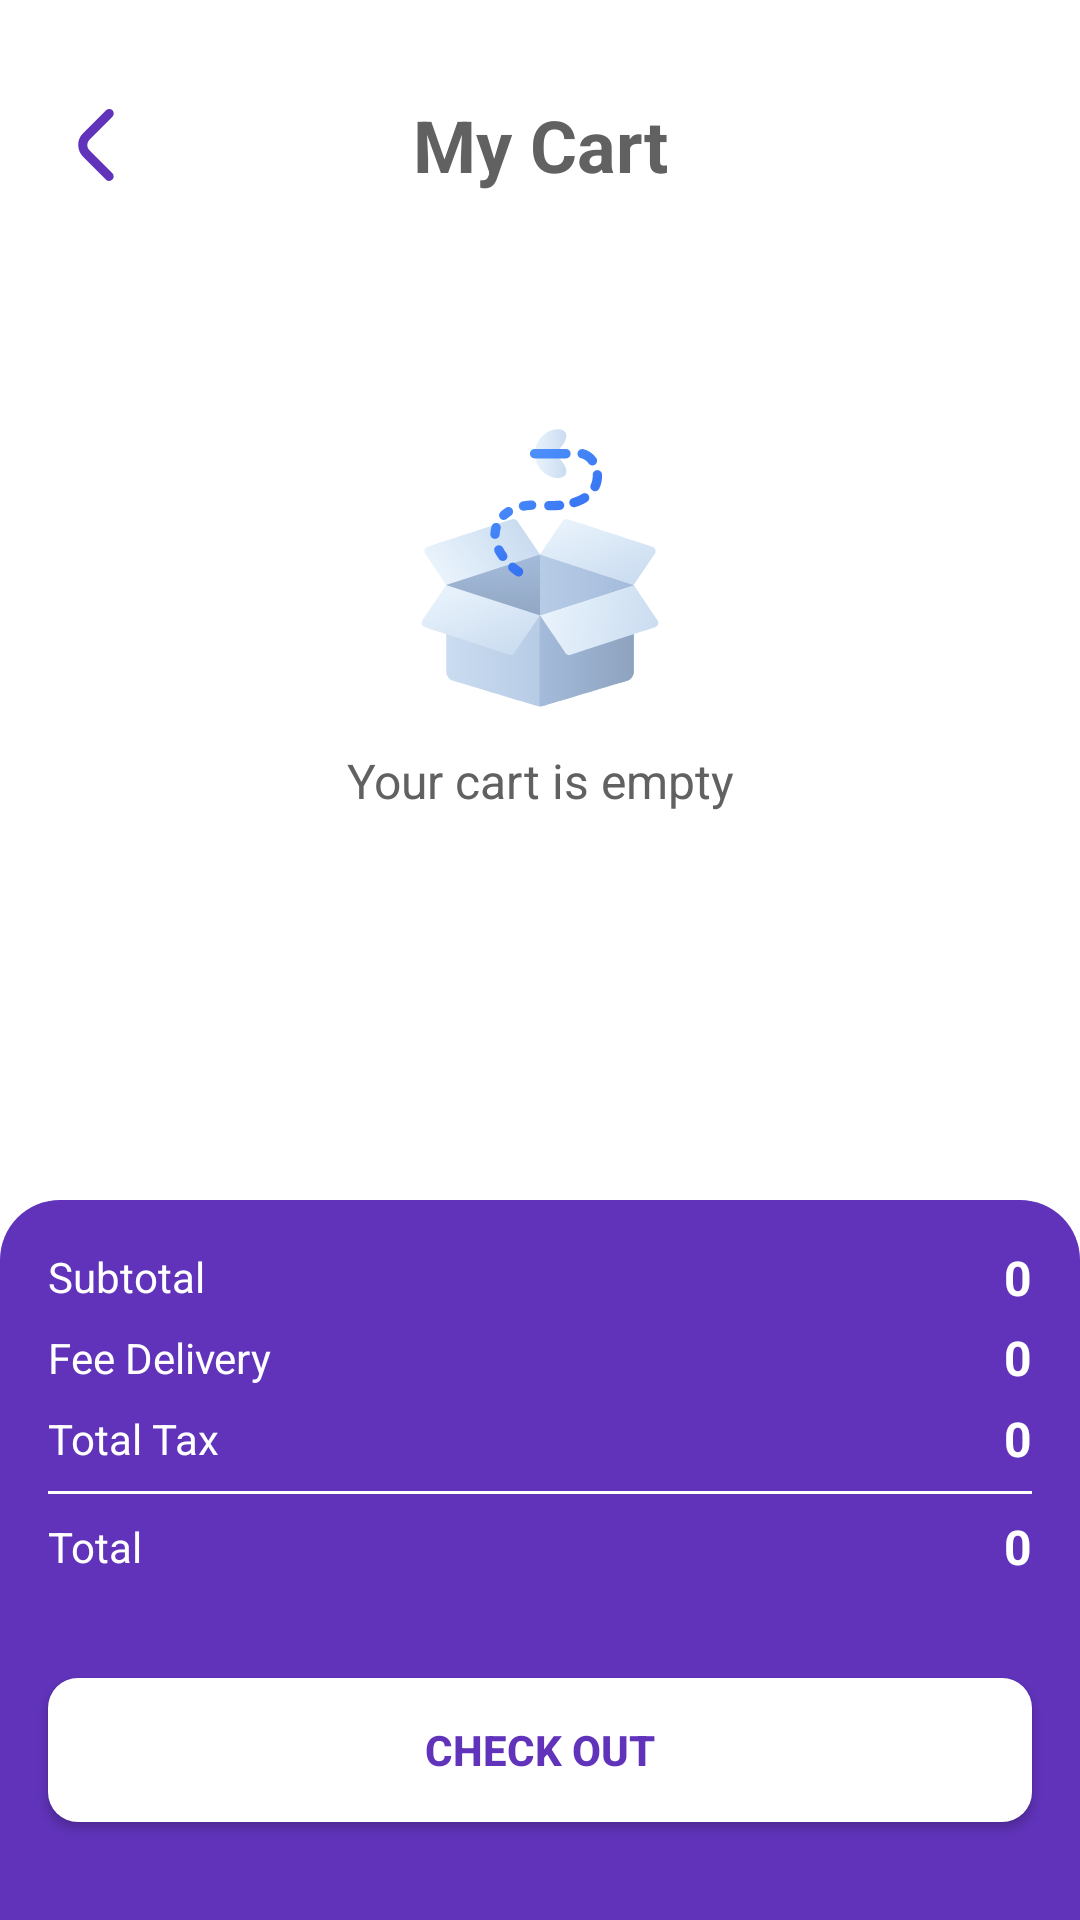

Named icons in this screenshot (1080 × 1920) and their centers, [x,y]:
angle left: [96,145]
empty box: [540,568]
